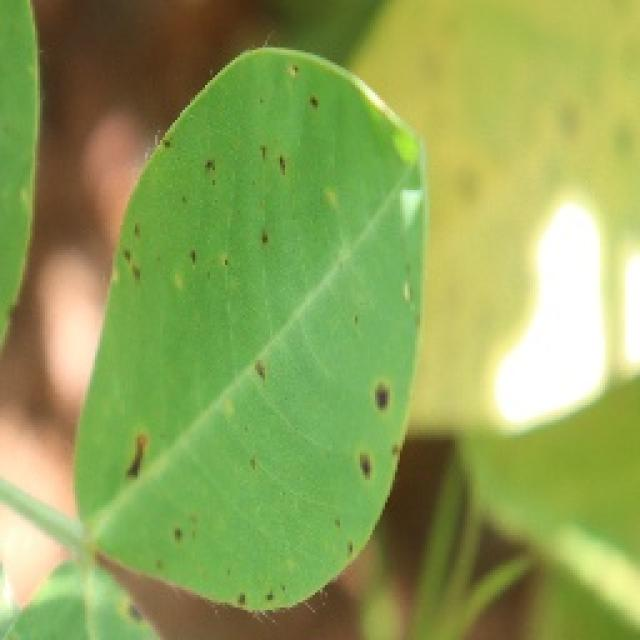Early_leaf_spot: (219, 89, 325, 204), (338, 349, 415, 496), (102, 441, 200, 527), (106, 212, 158, 323), (234, 304, 294, 388), (187, 578, 287, 619), (177, 134, 228, 214), (305, 489, 356, 566)
